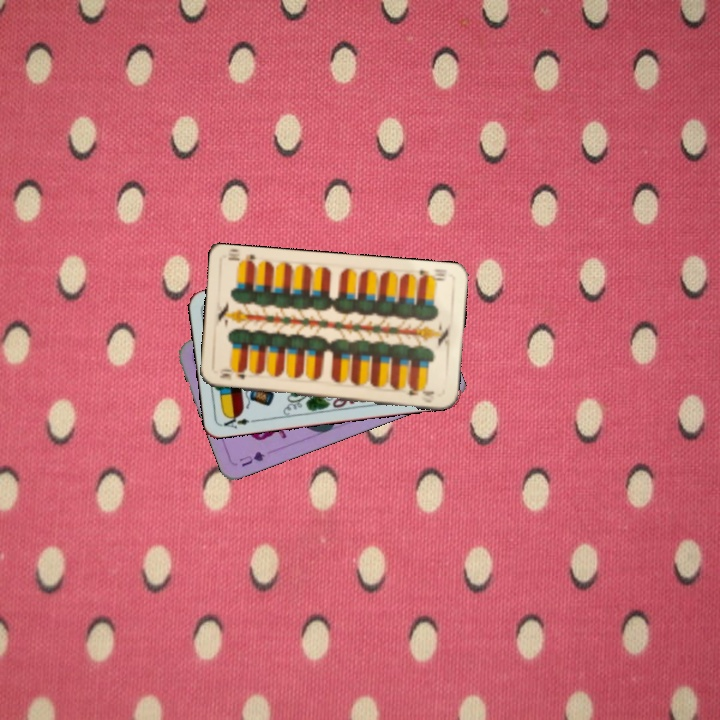E10: (415, 265, 449, 284), (215, 369, 248, 382)
EA: (220, 410, 259, 431)
GU: (235, 447, 268, 469)
